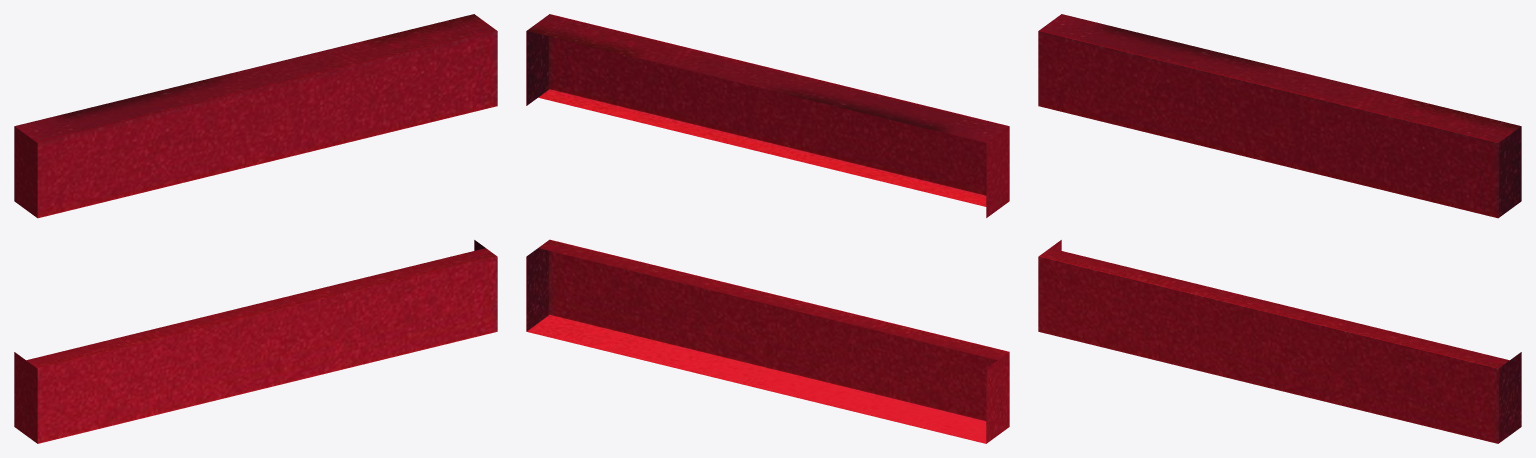
File: spain_red.glb
3 views of the same model, side by side, from view 1: azimuth 30°, elevation 25°; view 2: azimuth 150°, elevation 25°; view 3: azimuth 330°, elevation 25° (orthographic).
Parts seen in each view (by area): view 1: spain_red; view 2: spain_red; view 3: spain_red.
Boxes of the visible parts, x1,y1,x2,y2 form: spain_red: (14,14,497,443); spain_red: (526,14,1009,443); spain_red: (1038,14,1521,443).
Bounding box in the file's own units: 1.28 × 0.8 × 0.112.
1 material, 1 textured.
